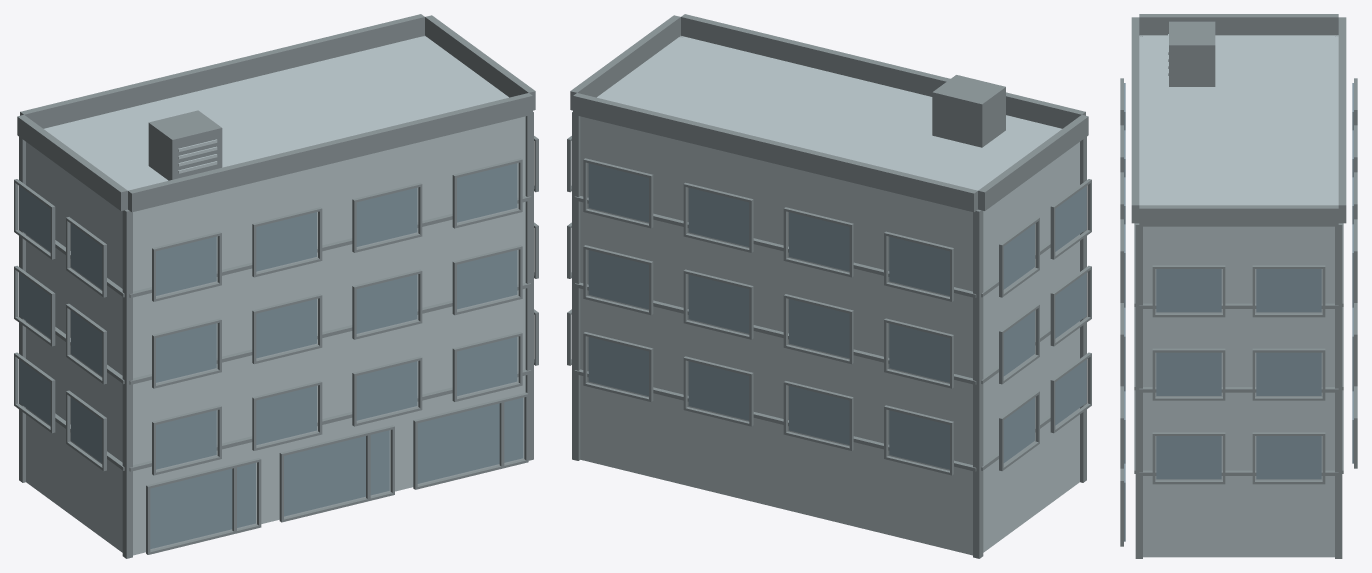
The model's file is lot_2x1_slab.glb.
3 views of the same model, side by side, from view 1: azimuth 30°, elevation 25°; view 2: azimuth 150°, elevation 25°; view 3: azimuth 270°, elevation 25° (orthographic). The views are drawn at different scales.
Parts seen in each view (by area): view 1: lot_2x1_slab; view 2: lot_2x1_slab; view 3: lot_2x1_slab.
Boxes of the visible parts, x1=… form: lot_2x1_slab: x1=14, y1=14, x2=538, y2=558; lot_2x1_slab: x1=567, y1=14, x2=1091, y2=558; lot_2x1_slab: x1=1120, y1=14, x2=1357, y2=558.
Size of the model in its own units: 15.74 by 13.5 by 7.74.
